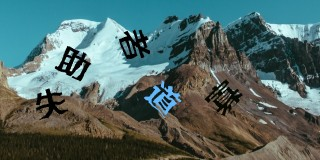助: (54, 45, 90, 80)
失: (33, 86, 68, 120)
寡: (204, 78, 244, 117)
者: (117, 27, 152, 62)
道: (144, 79, 183, 118)
